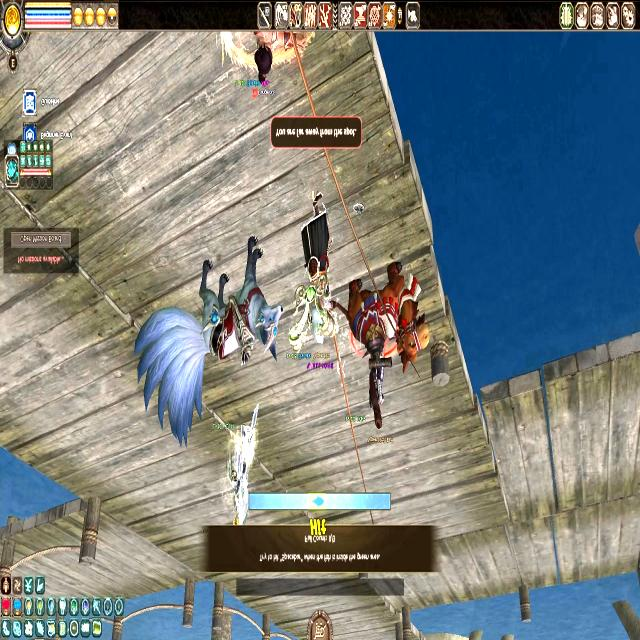fishes: (311, 494, 325, 508)
